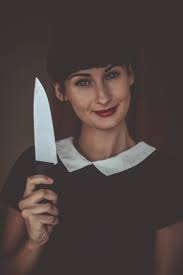knife: (31, 72, 60, 229)
